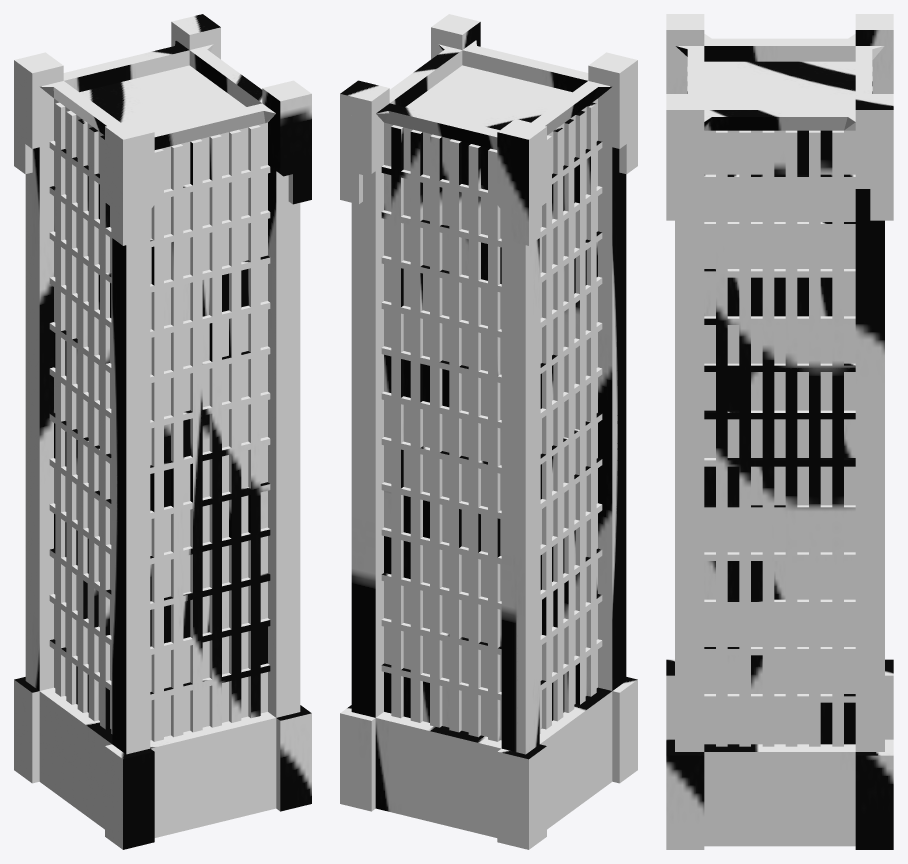
3 renders of one model, left to right at view 1: azimuth 30°, elevation 25°; view 2: azimuth 150°, elevation 25°; view 3: azimuth 270°, elevation 25°, orthographic. The views are drawn at different scales.
Visible parts, largest first — view 1: h_bd_3_Part_15, h_bd_3_Part_26, h_bd_3_Part_25, h_bd_3_Part_30, h_bd_3_Part_7, h_bd_3_Part_10, h_bd_3_Part_11, h_bd_3_Part_23, h_bd_3_Part_20, h_bd_3_Part_22, h_bd_3_Part_1, h_bd_3_Part_21 (+15 smaller); view 2: h_bd_3_Part_21, h_bd_3_Part_4, h_bd_3_Part_25, h_bd_3_Part_6, h_bd_3_Part_15, h_bd_3_Part_9, h_bd_3_Part_27, h_bd_3_Part_14, h_bd_3_Part_29, h_bd_3_Part_3, h_bd_3_Part_18, h_bd_3_Part_10 (+12 smaller); view 3: h_bd_3_Part_18, h_bd_3_Part_20, h_bd_3_Part_1, h_bd_3_Part_13, h_bd_3_Part_19, h_bd_3_Part_5, h_bd_3_Part_29, h_bd_3_Part_9, h_bd_3_Part_25, h_bd_3_Part_27, h_bd_3_Part_28, h_bd_3_Part_15 (+6 smaller).
Boxes of the visible parts, x1=… form: h_bd_3_Part_15: x1=88, y1=111, x2=311, y2=286; h_bd_3_Part_26: x1=71, y1=642, x2=278, y2=849; h_bd_3_Part_25: x1=14, y1=52, x2=139, y2=222; h_bd_3_Part_30: x1=88, y1=248, x2=283, y2=380; h_bd_3_Part_7: x1=74, y1=478, x2=288, y2=597; h_bd_3_Part_10: x1=90, y1=310, x2=182, y2=515; h_bd_3_Part_11: x1=68, y1=647, x2=221, y2=784; h_bd_3_Part_23: x1=100, y1=569, x2=240, y2=668; h_bd_3_Part_20: x1=203, y1=414, x2=300, y2=564; h_bd_3_Part_22: x1=25, y1=326, x2=112, y2=482; h_bd_3_Part_1: x1=236, y1=645, x2=311, y2=818; h_bd_3_Part_21: x1=25, y1=213, x2=91, y2=377; h_bd_3_Part_21: x1=351, y1=273, x2=571, y2=453; h_bd_3_Part_4: x1=351, y1=489, x2=554, y2=649; h_bd_3_Part_25: x1=432, y1=95, x2=587, y2=285; h_bd_3_Part_6: x1=408, y1=628, x2=569, y2=795; h_bd_3_Part_15: x1=478, y1=40, x2=637, y2=233; h_bd_3_Part_9: x1=351, y1=210, x2=574, y2=314; h_bd_3_Part_27: x1=340, y1=651, x2=437, y2=817; h_bd_3_Part_14: x1=412, y1=719, x2=582, y2=849; h_bd_3_Part_29: x1=340, y1=111, x2=481, y2=217; h_bd_3_Part_3: x1=351, y1=401, x2=524, y2=499; h_bd_3_Part_18: x1=351, y1=513, x2=449, y2=671; h_bd_3_Part_10: x1=570, y1=238, x2=626, y2=444; h_bd_3_Part_18: x1=675, y1=542, x2=884, y2=707; h_bd_3_Part_20: x1=675, y1=415, x2=884, y2=595; h_bd_3_Part_1: x1=666, y1=682, x2=817, y2=849; h_bd_3_Part_13: x1=675, y1=306, x2=838, y2=452; h_bd_3_Part_19: x1=666, y1=171, x2=818, y2=264; h_bd_3_Part_5: x1=675, y1=255, x2=857, y2=365; h_bd_3_Part_29: x1=781, y1=82, x2=893, y2=236; h_bd_3_Part_9: x1=776, y1=227, x2=884, y2=347; h_bd_3_Part_25: x1=735, y1=14, x2=893, y2=95; h_bd_3_Part_27: x1=845, y1=688, x2=893, y2=849; h_bd_3_Part_28: x1=779, y1=702, x2=847, y2=846; h_bd_3_Part_15: x1=666, y1=14, x2=772, y2=197.
Bounding box in the file's own units: 9.26 × 33.28 × 9.26.
